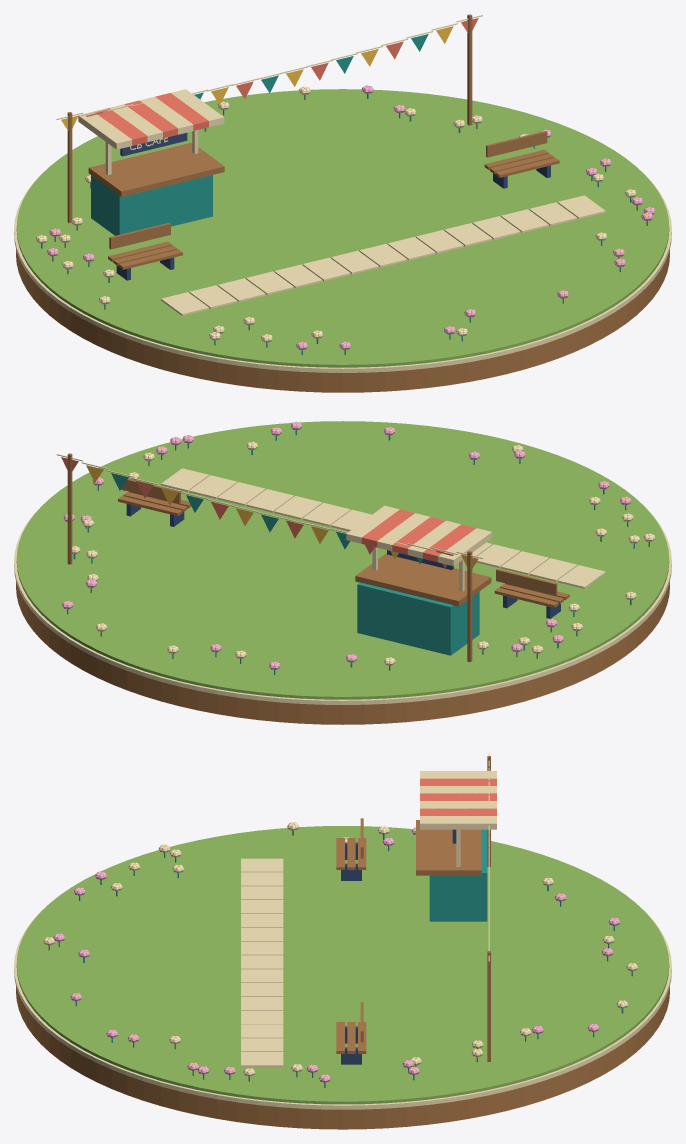
The model's file is story-stage.glb.
The picture shows the model from 3 angles, top to bottom: view 1: azimuth 30°, elevation 25°; view 2: azimuth 150°, elevation 25°; view 3: azimuth 270°, elevation 25°; orthographic projection.
Parts seen in each view (by area): view 1: Soft lawn, Floating park plinth, Cafe body, Gold edge band, Cafe counter, Candy striped canopy, Bench back, Bench back.001, Candy striped canopy.005, Candy striped canopy.004, Candy striped canopy.006, Candy striped canopy.003 (+19 smaller); view 2: Soft lawn, Floating park plinth, Cafe body, Gold edge band, Cafe counter, Candy striped canopy, Bench back, Candy striped canopy.005, Candy striped canopy.006, Candy striped canopy.004, Candy striped canopy.003, Candy striped canopy.002 (+17 smaller); view 3: Soft lawn, Floating park plinth, Gold edge band, Cafe body, Cafe counter, Candy striped canopy.006, Path paving.014, Path paving.001, Path paving.005, Path paving.007, Path paving.012, Path paving (+15 smaller).
Boxes of the visible parts, x1,y1,x2,y2 form: Soft lawn: [16, 89, 669, 367]; Floating park plinth: [16, 249, 669, 392]; Cafe body: [91, 175, 212, 235]; Gold edge band: [14, 176, 671, 372]; Cafe counter: [88, 142, 224, 197]; Candy striped canopy: [78, 111, 132, 149]; Bench back: [109, 222, 170, 249]; Bench back.001: [486, 131, 547, 157]; Candy striped canopy.005: [155, 93, 208, 130]; Candy striped canopy.004: [140, 96, 193, 134]; Candy striped canopy.006: [171, 89, 224, 127]; Candy striped canopy.003: [124, 100, 178, 138]; Soft lawn: [16, 421, 669, 699]; Floating park plinth: [16, 581, 669, 724]; Cafe body: [357, 582, 479, 655]; Gold edge band: [14, 508, 671, 704]; Cafe counter: [355, 553, 491, 606]; Candy striped canopy: [438, 528, 492, 566]; Bench back: [496, 569, 557, 595]; Candy striped canopy.005: [361, 509, 414, 547]; Candy striped canopy.006: [346, 505, 399, 543]; Candy striped canopy.004: [377, 513, 430, 550]; Candy striped canopy.003: [392, 517, 445, 554]; Candy striped canopy.002: [407, 520, 460, 558]; Soft lawn: [16, 826, 669, 1104]; Floating park plinth: [16, 986, 669, 1129]; Gold edge band: [14, 912, 671, 1109]; Cafe body: [429, 829, 487, 921]; Cafe counter: [416, 820, 481, 875]; Candy striped canopy.006: [420, 816, 496, 829]; Path paving.014: [241, 1052, 283, 1066]; Path paving.001: [241, 872, 283, 886]; Path paving.005: [241, 927, 283, 941]; Path paving.007: [241, 955, 283, 969]; Path paving.012: [241, 1024, 283, 1038]; Path paving: [241, 858, 283, 872].
Bounding box in the file's own units: 17.1 × 3.93 × 17.1.
